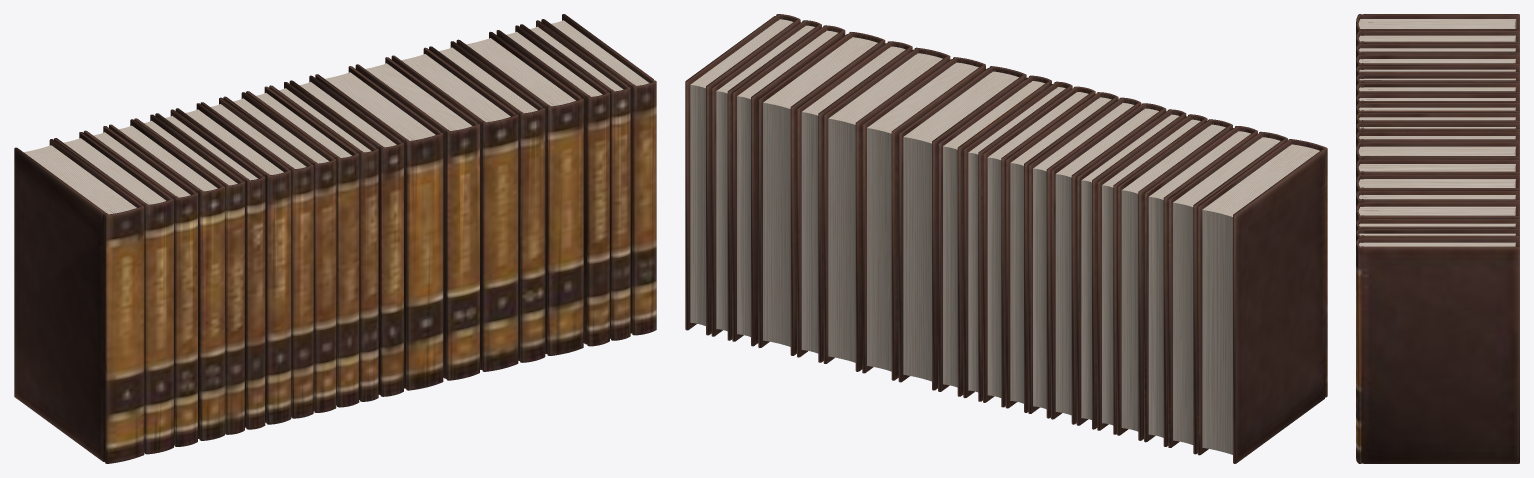
The model's file is ph_books.glb.
The picture shows the model from 3 angles, left to right: view 1: azimuth 30°, elevation 25°; view 2: azimuth 150°, elevation 25°; view 3: azimuth 270°, elevation 25°; orthographic projection. The views are drawn at different scales.
Parts seen in each view (by area): view 1: book_encyclopedia_set_01_book01, book_encyclopedia_set_01_book13, book_encyclopedia_set_01_book15, book_encyclopedia_set_01_book17, book_encyclopedia_set_01_book14, book_encyclopedia_set_01_book02, book_encyclopedia_set_01_book16, book_encyclopedia_set_01_book04, book_encyclopedia_set_01_book18, book_encyclopedia_set_01_book20, book_encyclopedia_set_01_book07, book_encyclopedia_set_01_book12 (+8 smaller); view 2: book_encyclopedia_set_01_book01, book_encyclopedia_set_01_book13, book_encyclopedia_set_01_book15, book_encyclopedia_set_01_book17, book_encyclopedia_set_01_book14, book_encyclopedia_set_01_book02, book_encyclopedia_set_01_book04, book_encyclopedia_set_01_book16, book_encyclopedia_set_01_book18, book_encyclopedia_set_01_book20, book_encyclopedia_set_01_book07, book_encyclopedia_set_01_book12 (+8 smaller); view 3: book_encyclopedia_set_01_book20, book_encyclopedia_set_01_book13, book_encyclopedia_set_01_book01, book_encyclopedia_set_01_book17, book_encyclopedia_set_01_book15, book_encyclopedia_set_01_book14, book_encyclopedia_set_01_book02, book_encyclopedia_set_01_book16, book_encyclopedia_set_01_book03, book_encyclopedia_set_01_book12, book_encyclopedia_set_01_book04, book_encyclopedia_set_01_book07 (+8 smaller).
Boxes of the visible parts, <box> form: book_encyclopedia_set_01_book01: <box>14,139,144,463</box>; book_encyclopedia_set_01_book13: <box>315,66,443,390</box>; book_encyclopedia_set_01_book15: <box>391,47,518,371</box>; book_encyclopedia_set_01_book17: <box>456,31,583,355</box>; book_encyclopedia_set_01_book14: <box>355,57,479,380</box>; book_encyclopedia_set_01_book02: <box>54,132,173,454</box>; book_encyclopedia_set_01_book16: <box>429,41,545,362</box>; book_encyclopedia_set_01_book04: <box>109,119,224,440</box>; book_encyclopedia_set_01_book18: <box>496,25,609,346</box>; book_encyclopedia_set_01_book20: <box>541,14,656,335</box>; book_encyclopedia_set_01_book07: <box>175,103,291,424</box>; book_encyclopedia_set_01_book12: <box>289,75,403,396</box>; book_encyclopedia_set_01_book01: <box>1197,139,1327,463</box>; book_encyclopedia_set_01_book13: <box>898,66,1026,390</box>; book_encyclopedia_set_01_book15: <box>823,47,950,371</box>; book_encyclopedia_set_01_book17: <box>758,32,885,355</box>; book_encyclopedia_set_01_book14: <box>862,57,985,380</box>; book_encyclopedia_set_01_book02: <box>1168,131,1287,454</box>; book_encyclopedia_set_01_book04: <box>1117,119,1232,440</box>; book_encyclopedia_set_01_book16: <box>797,41,912,362</box>; book_encyclopedia_set_01_book18: <box>732,25,845,346</box>; book_encyclopedia_set_01_book20: <box>685,14,800,335</box>; book_encyclopedia_set_01_book07: <box>1051,103,1166,424</box>; book_encyclopedia_set_01_book12: <box>938,75,1051,396</box>; book_encyclopedia_set_01_book20: <box>1356,238,1519,463</box>; book_encyclopedia_set_01_book13: <box>1356,142,1519,165</box>; book_encyclopedia_set_01_book01: <box>1356,14,1519,35</box>; book_encyclopedia_set_01_book17: <box>1356,202,1519,221</box>; book_encyclopedia_set_01_book15: <box>1356,174,1519,194</box>; book_encyclopedia_set_01_book14: <box>1356,159,1519,180</box>; book_encyclopedia_set_01_book02: <box>1356,30,1519,47</box>; book_encyclopedia_set_01_book16: <box>1356,190,1519,222</box>; book_encyclopedia_set_01_book03: <box>1356,43,1519,58</box>; book_encyclopedia_set_01_book12: <box>1356,131,1519,149</box>; book_encyclopedia_set_01_book04: <box>1356,54,1519,69</box>; book_encyclopedia_set_01_book07: <box>1356,82,1519,96</box>.
Size of the model in its own units: 0.5513 by 0.2374 by 0.1631.
2 materials, 2 textured.
